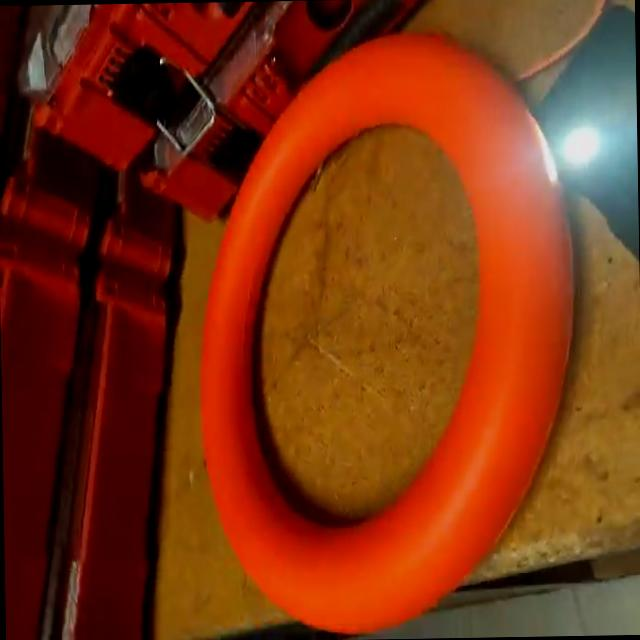note: (186, 24, 582, 634)
